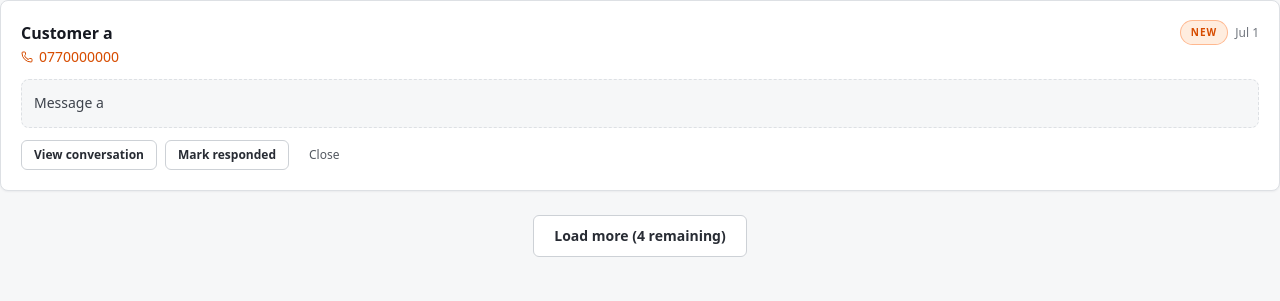
Test: InquiriesList load more › shows an alert when the fetch fails
This screenshot has width=1280, height=301.
Click the button "Load more (4 remaining)".
click(640, 236)  # box [533,215,747,257]
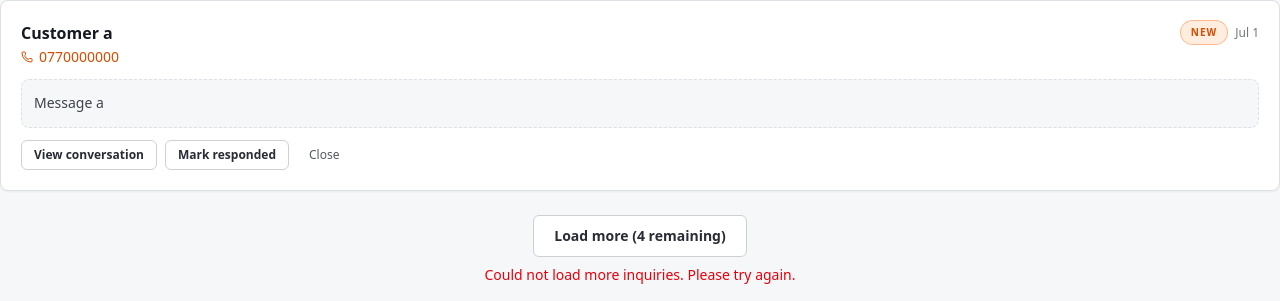
Expected: the message reads "Could not load more inquiries. Please try again.", [484,265,796,284]
